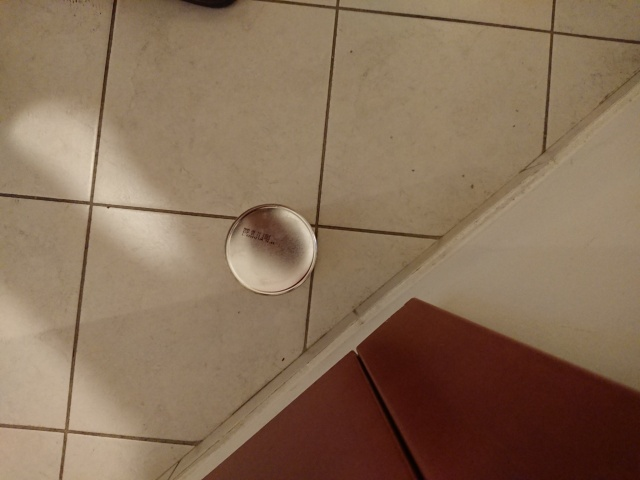Nescafe Classic 225g: (221, 200, 321, 300)
